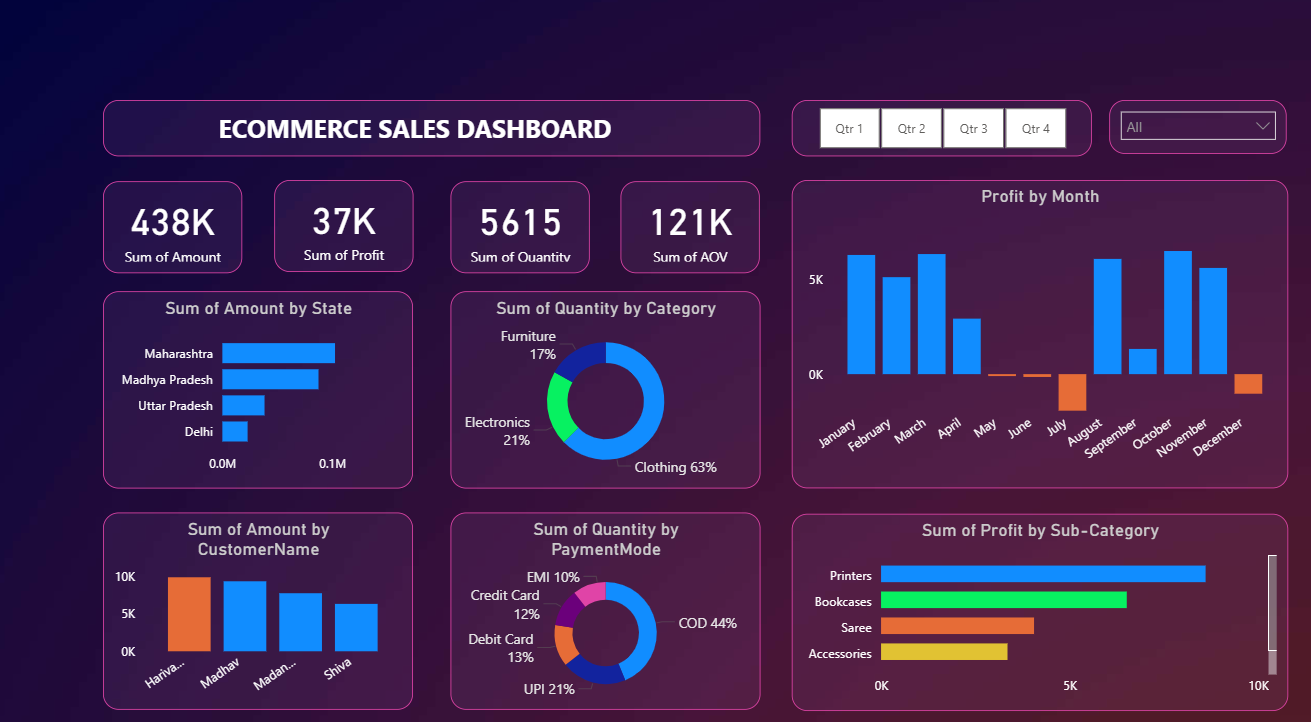

The dashboard page shown, as its layout file describes it:
{"tool":"powerbi","page":{"name":"Page 1","canvas":[1280,720],"ordinal":0},"visuals":[{"type":"textbox","box":[111,111,634.6,54],"z":0},{"type":"columnChart","title":"Profit by Month","fields":{"Category":["Orders.Order Date.Variation.Date Hierarchy.Month"],"Y":["Details.Profit"]},"box":[775.3,188,478.9,297.8],"z":1000},{"type":"barChart","fields":{"Category":["Details.Sub-Category"],"Y":["Details.Profit"]},"box":[775.7,510.3,479,190],"z":2000},{"type":"donutChart","fields":{"Y":["Details.Quantity"],"Category":["Details.PaymentMode"]},"box":[446,509.1,299.1,190.7],"z":3000},{"type":"donutChart","fields":{"Category":["Details.Category"],"Y":["Details.Quantity"]},"box":[446,295,299.1,190.7],"z":4000},{"type":"card","fields":{"Values":["Details.Amount"]},"box":[111.1,189.4,134.5,89.2],"z":5000},{"type":"card","fields":{"Values":["Details.Quantity"]},"box":[446,189.4,134.5,89.2],"z":6000},{"type":"card","fields":{"Values":["Details.Profit"]},"box":[275.8,188,134.5,89.2],"z":7000},{"type":"card","fields":{"Values":["Details.AOV"]},"box":[610.6,189.4,134.5,89.2],"z":8000},{"type":"barChart","fields":{"Category":["Orders.State"],"Y":["Details.Amount"]},"box":[111.1,295,299.1,190.7],"z":9000},{"type":"clusteredColumnChart","fields":{"Category":["Orders.CustomerName"],"Y":["Details.Amount"]},"box":[111.1,509.1,299.1,190.7],"z":10000},{"type":"slicer","fields":{"Values":["Orders.Order Date.Variation.Date Hierarchy.Quarter"]},"box":[775.7,111,289.5,54.3],"z":11000},{"type":"slicer","fields":{"Values":["Orders.State"]},"box":[1082.7,111.1,171.5,52.1],"z":12000}]}

Visuals, with their boxes in screenshot pixels (x1, y1, x2, y2), scaled from the page's 1280x720 canvas onto the 1311x722 screenshot:
textbox: detection(114, 111, 764, 165)
"Profit by Month" columnChart: detection(794, 189, 1285, 487)
barChart - Details.Sub-Category x Details.Profit: detection(794, 512, 1285, 702)
donutChart - Details.Quantity x Details.PaymentMode: detection(457, 511, 763, 702)
donutChart - Details.Category x Details.Quantity: detection(457, 296, 763, 487)
card - Details.Amount: detection(114, 190, 252, 279)
card - Details.Quantity: detection(457, 190, 595, 279)
card - Details.Profit: detection(282, 189, 420, 278)
card - Details.AOV: detection(625, 190, 763, 279)
barChart - Orders.State x Details.Amount: detection(114, 296, 420, 487)
clusteredColumnChart - Orders.CustomerName x Details.Amount: detection(114, 511, 420, 702)
slicer - Orders.Order Date.Variation.Date Hierarchy.Quarter: detection(794, 111, 1091, 166)
slicer - Orders.State: detection(1109, 111, 1285, 164)
